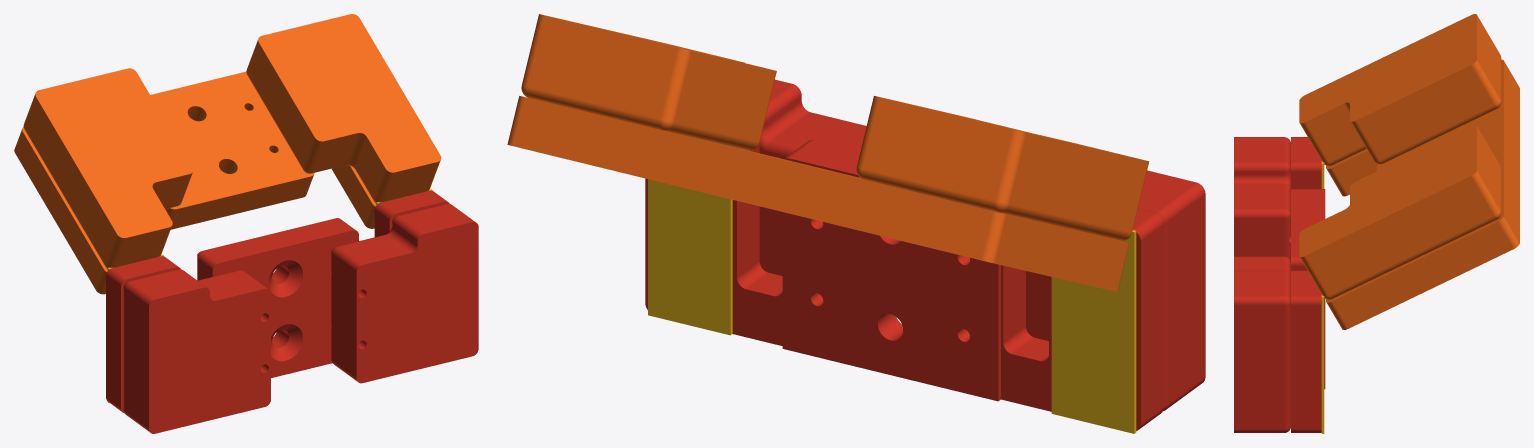
Rendered from HR-V0_J2_positive_stop_contact_candidate.glb.
The picture shows the model from 3 angles, left to right: view 1: azimuth 30°, elevation 25°; view 2: azimuth 150°, elevation 25°; view 3: azimuth 270°, elevation 25°; orthographic projection. The views are drawn at different scales.
Visible parts, largest first — view 1: MV0-C06_MOVING_STRIKER_AT_CONTACT, MV0-C07_FIXED_CATCH; view 2: MV0-C06_MOVING_STRIKER_AT_CONTACT, MV0-C07_FIXED_CATCH, BUMPER_SR1_MAXIMUM_ENVELOPE_SELECTION_REQUIRED; view 3: MV0-C06_MOVING_STRIKER_AT_CONTACT, MV0-C07_FIXED_CATCH, BUMPER_SR1_MAXIMUM_ENVELOPE_SELECTION_REQUIRED.
Boxes of the visible parts, box(x1,y1,x2,y2) form: MV0-C06_MOVING_STRIKER_AT_CONTACT: box(14, 14, 441, 294); MV0-C07_FIXED_CATCH: box(106, 190, 478, 433); MV0-C06_MOVING_STRIKER_AT_CONTACT: box(507, 14, 1149, 291); MV0-C07_FIXED_CATCH: box(645, 79, 1205, 430); BUMPER_SR1_MAXIMUM_ENVELOPE_SELECTION_REQUIRED: box(648, 179, 1136, 433); MV0-C06_MOVING_STRIKER_AT_CONTACT: box(1299, 14, 1519, 329); MV0-C07_FIXED_CATCH: box(1234, 137, 1325, 432); BUMPER_SR1_MAXIMUM_ENVELOPE_SELECTION_REQUIRED: box(1321, 161, 1324, 433).
Size of the model in its own units: 108 by 80.07 by 79.54.
